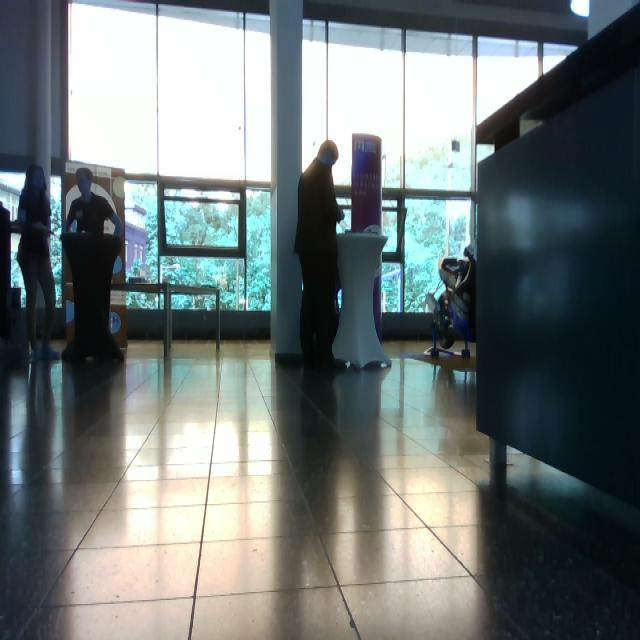light bulb: (318, 140, 339, 166), (570, 1, 590, 18)
person: (294, 140, 348, 372), (62, 168, 125, 364), (15, 164, 61, 362)
pillar: (269, 1, 304, 360)
table: (331, 228, 394, 376)
tiled floor: (2, 336, 638, 638)
window: (65, 1, 273, 316)
